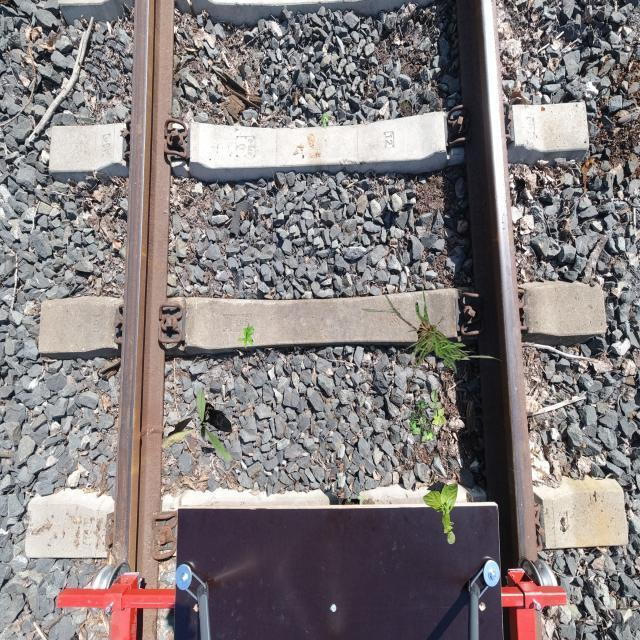Plant: (361, 286, 504, 376), (161, 387, 232, 462), (423, 482, 458, 544), (409, 390, 446, 445), (237, 325, 254, 349), (320, 114, 334, 130)
